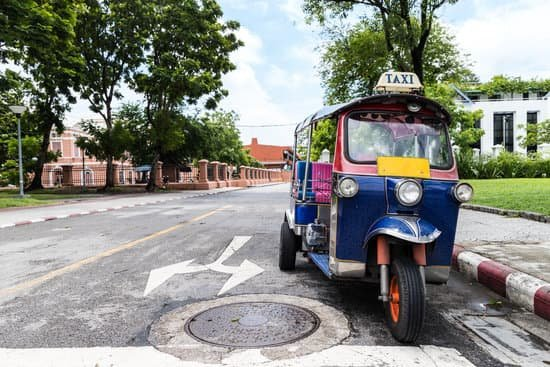threewheel: (281, 71, 473, 344)
